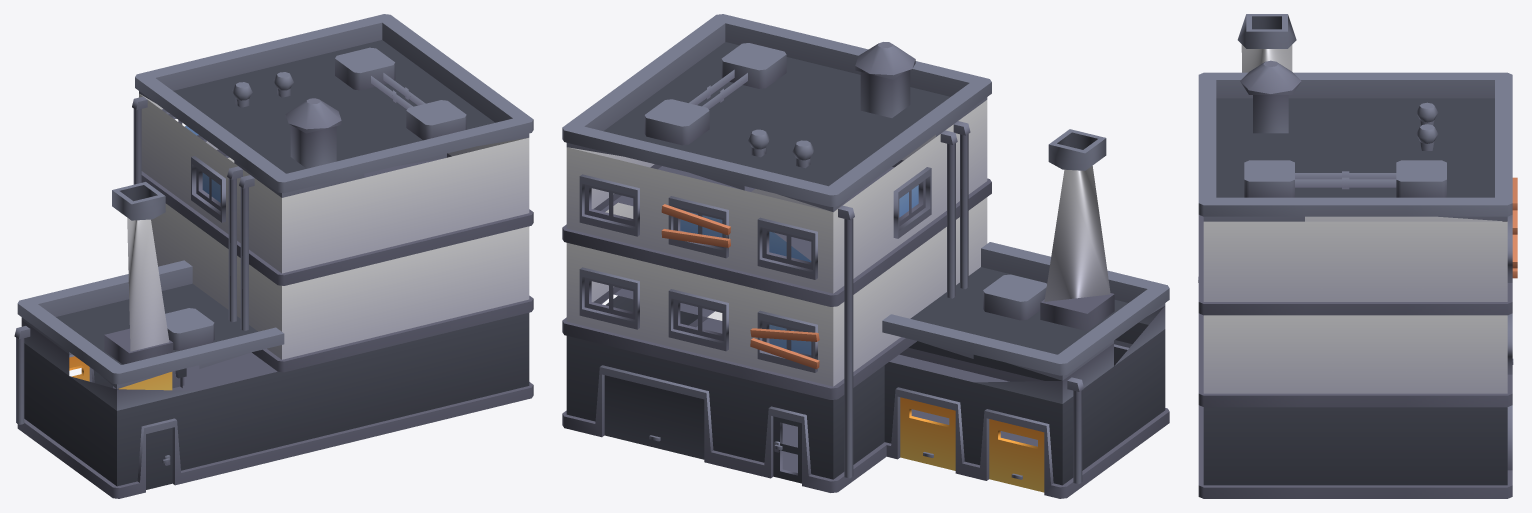
The model's file is works-b.glb.
3 renders of one model, left to right at view 1: azimuth 30°, elevation 25°; view 2: azimuth 150°, elevation 25°; view 3: azimuth 270°, elevation 25°, orthographic. The views are drawn at different scales.
Parts seen in each view (by area): view 1: building-b; view 2: building-b; view 3: building-b.
Boxes of the visible parts, bbox=[...] form: building-b: bbox=[14, 14, 533, 498]; building-b: bbox=[562, 14, 1169, 498]; building-b: bbox=[1198, 14, 1517, 498].
Bounding box in the file's own units: 2.08 × 1.47 × 1.26.
Materials: 1 (1 with a texture image).
